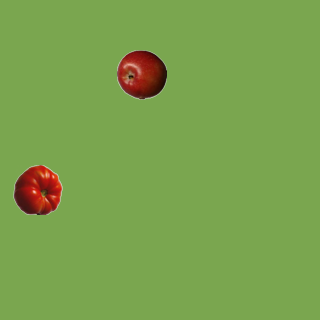Apple Braeburn: (116, 49, 166, 99)
Tomato 3: (12, 164, 62, 214)
